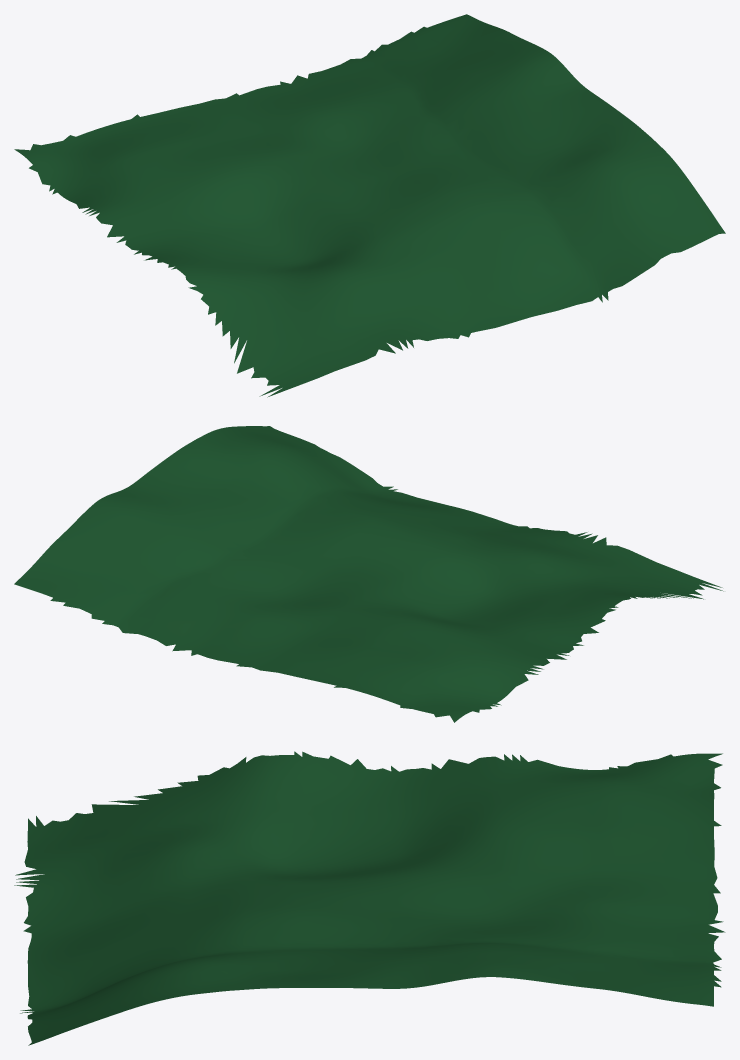
The model's file is payo_land_x3_ym1.glb.
3 views of the same model, one above another, from view 1: azimuth 30°, elevation 25°; view 2: azimuth 150°, elevation 25°; view 3: azimuth 270°, elevation 25° (orthographic). The views are drawn at different scales.
Visible parts, largest first — view 1: payo_land_x3_ym1; view 2: payo_land_x3_ym1; view 3: payo_land_x3_ym1.
Part boxes in pixels (x1,y1,x2,y2): payo_land_x3_ym1: (14,14,725,397); payo_land_x3_ym1: (14,426,723,722); payo_land_x3_ym1: (14,751,725,1045).
Size of the model in its own units: 264 by 56.65 by 265.
